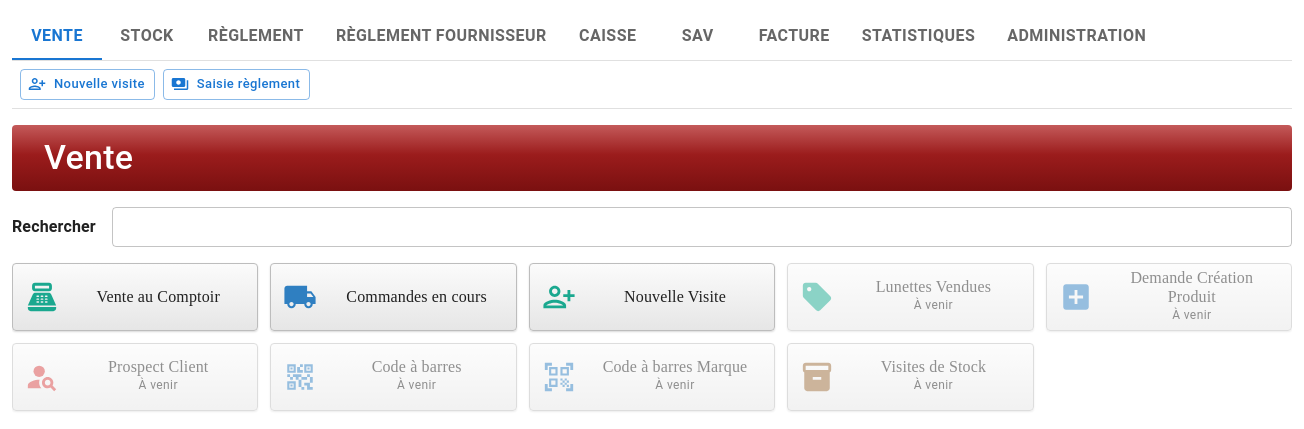
Scenario: la recherche filtre les boutons du module
Step 1. Type "visite" into the field labelled "Rechercher" → (702, 227), box [112,207,1292,247]
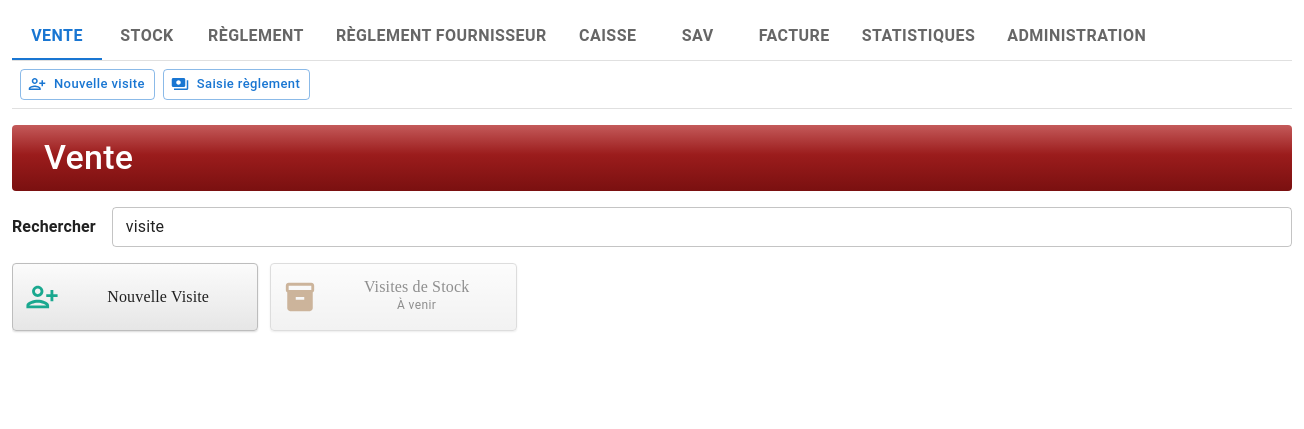
expect the button "Nouvelle Visite" is shown: met, box [12,263,258,331]
expect the button "Vente au Comptoir" is gone: met
